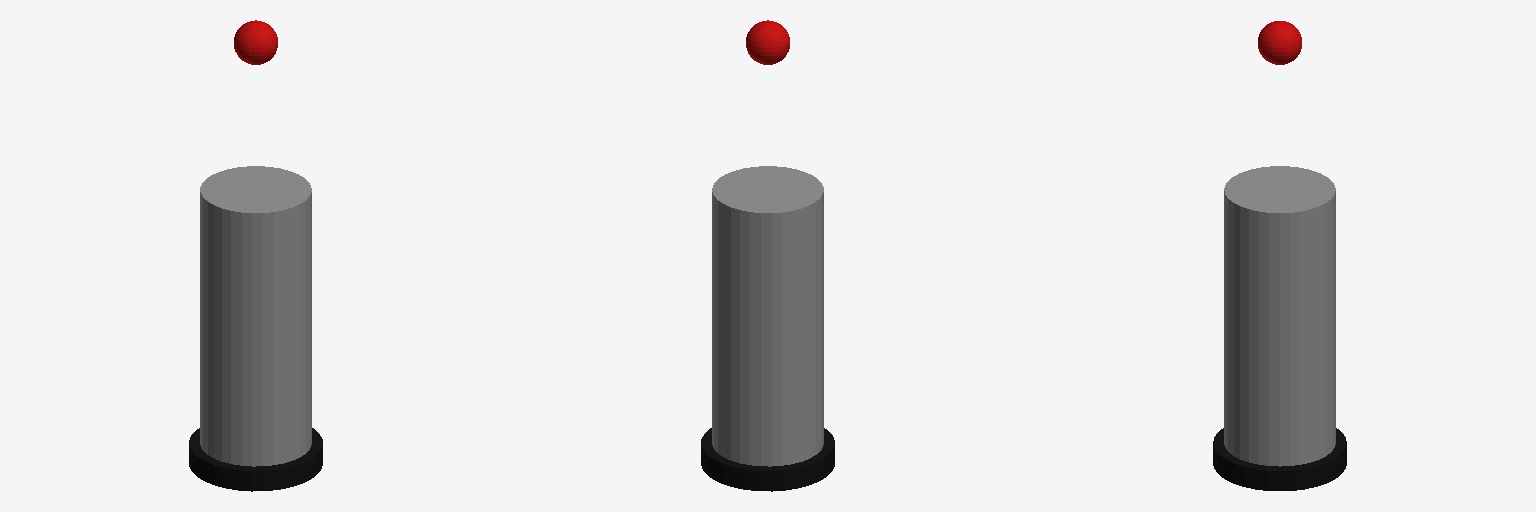
The robot description file, URDF, robot "mr_springs":
<?xml version="1.0"?>
<robot name="mr_springs">
  <material name="gray"><color rgba="0.6 0.6 0.6 1"/></material>
  <material name="red"><color rgba="0.8 0.1 0.1 1"/></material>
  <material name="black"><color rgba="0.1 0.1 0.1 1"/></material>

  <link name="foot">
    <inertial><origin xyz="0 0 0" rpy="0 0 0"/>
      <mass value="0.25"/>
      <inertia ixx="2.7e-4" iyy="2.7e-4" izz="4.5e-4" ixy="0" ixz="0" iyz="0"/>
    </inertial>
    <visual><origin xyz="0 0 0" rpy="0 0 0"/>
      <geometry><cylinder radius="0.06" length="0.02"/></geometry>
      <material name="black"/>
    </visual>
    <collision><origin xyz="0 0 0" rpy="0 0 0"/>
      <geometry><cylinder radius="0.06" length="0.02"/></geometry>
    </collision>
  </link>

  <link name="body">
    <inertial><origin xyz="0 0 0.125" rpy="0 0 0"/>
      <mass value="1.0"/>
      <inertia ixx="1.1e-3" iyy="1.1e-3" izz="2.5e-3" ixy="0" ixz="0" iyz="0"/>
    </inertial>
    <visual><origin xyz="0 0 0.125" rpy="0 0 0"/>
      <geometry><cylinder radius="0.05" length="0.25"/></geometry>
      <material name="gray"/>
    </visual>
    <collision><origin xyz="0 0 0.125" rpy="0 0 0"/>
      <geometry><cylinder radius="0.05" length="0.25"/></geometry>
    </collision>
  </link>

  <joint name="leg_joint" type="prismatic">
    <parent link="foot"/><child link="body"/>
    <origin xyz="0 0 0.01" rpy="0 0 0"/>
    <axis xyz="0 0 1"/>
    <limit lower="0.0" upper="0.20" effort="1000" velocity="3.0"/>
    <dynamics damping="8.0" friction="0.0"/>
  </joint>

  <link name="cap">
    <inertial><origin xyz="0 0 0.26" rpy="0 0 0"/>
      <mass value="0.01"/>
      <inertia ixx="1e-6" iyy="1e-6" izz="1e-6" ixy="0" ixz="0" iyz="0"/>
    </inertial>
    <visual><origin xyz="0 0 0.26" rpy="0 0 0"/>
      <geometry><sphere radius="0.02"/></geometry>
      <material name="red"/>
    </visual>
    <collision><origin xyz="0 0 0.26" rpy="0 0 0"/>
      <geometry><sphere radius="0.02"/></geometry>
    </collision>
  </link>

  <joint name="cap_fixed" type="fixed">
    <parent link="body"/><child link="cap"/>
    <origin xyz="0 0 0.135" rpy="0 0 0"/>
  </joint>
</robot>

--- Render facts (derived) ---
The picture shows the robot from 3 angles, left to right: view 1: azimuth 30°, elevation 25°; view 2: azimuth 150°, elevation 25°; view 3: azimuth 270°, elevation 25°; orthographic projection.
Robot: mr_springs — 3 links, 2 joints (1 prismatic, 1 fixed); root link foot; default pose: all joints at 0.
Links seen in each view (by area): view 1: body, foot, cap; view 2: body, foot, cap; view 3: body, foot, cap.
Boxes of the visible links, box(x1,y1,x2,y2) form: body: box(200, 166, 311, 466); foot: box(189, 428, 322, 491); cap: box(234, 20, 277, 64); body: box(712, 166, 823, 466); foot: box(701, 428, 834, 491); cap: box(746, 20, 789, 64); body: box(1224, 166, 1335, 466); foot: box(1213, 428, 1346, 490); cap: box(1258, 21, 1301, 64).
Size in the robot's own frame: 0.12 by 0.12 by 0.435 metres.
Geometry: primitives only (box / cylinder / sphere), no mesh files.
